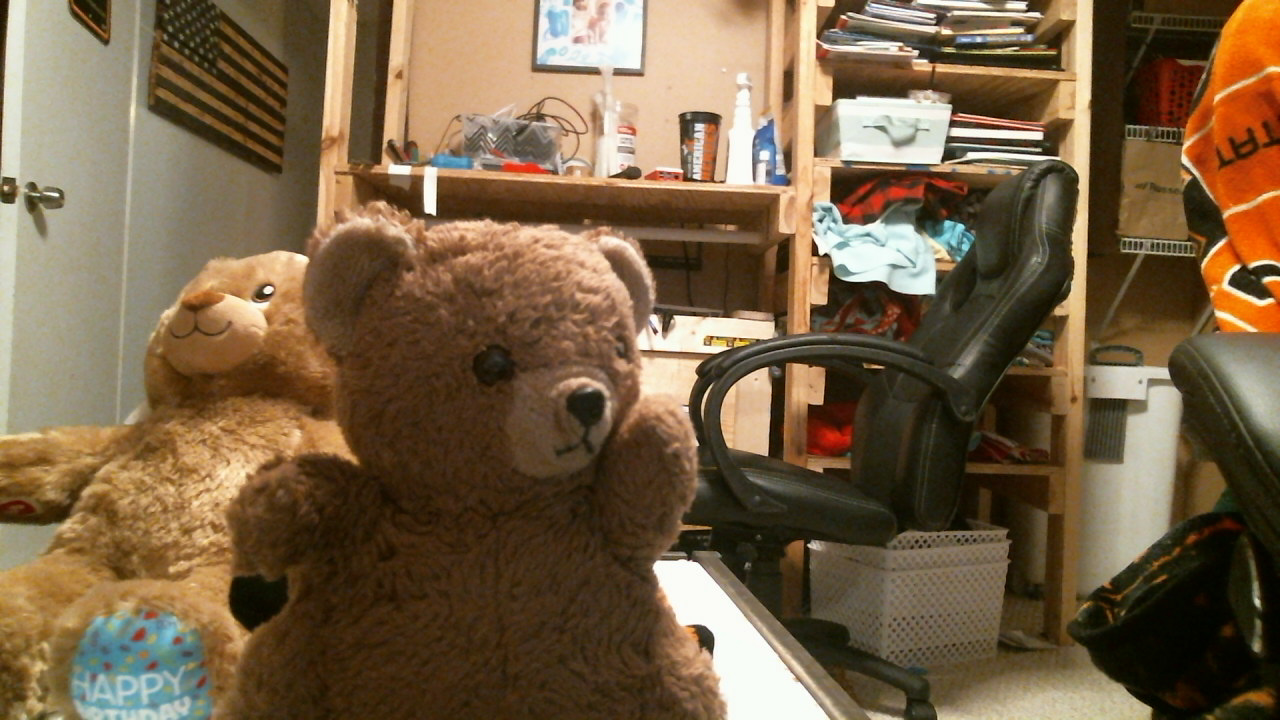Little_Mister_Bear: (456, 329, 646, 500)
